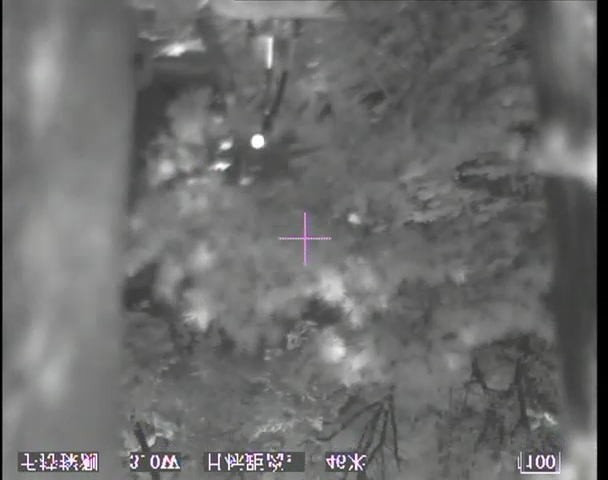my: (249, 133, 265, 150)
